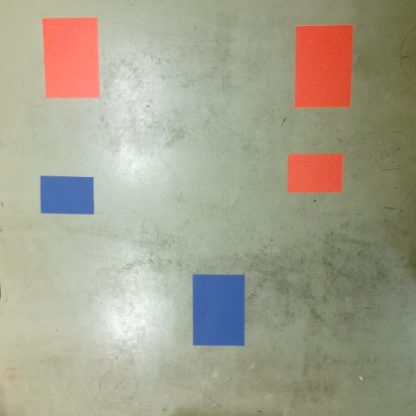Blue: (190, 274, 246, 349), (38, 174, 96, 217)
Red: (291, 23, 354, 109), (40, 16, 103, 99), (284, 152, 346, 195)
